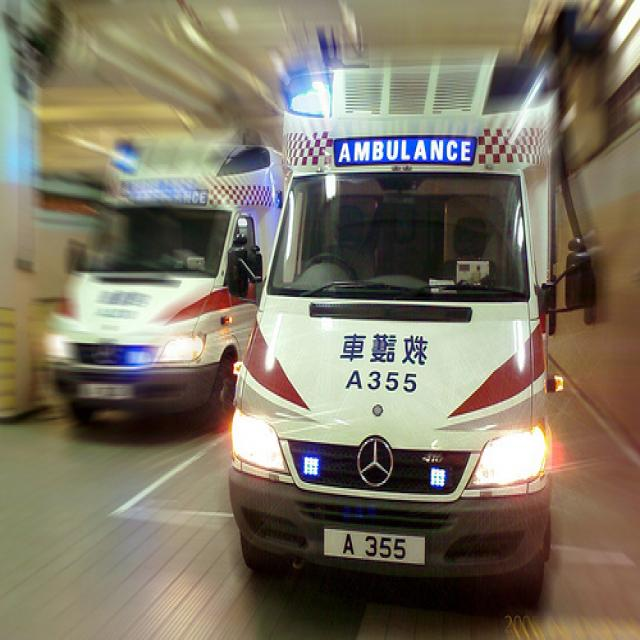emergency-vehicle: (228, 111, 550, 596)
